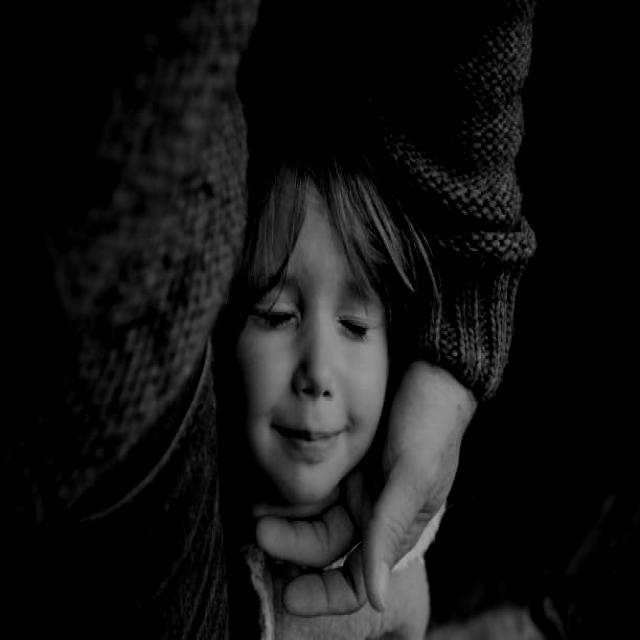real: (218, 137, 387, 510), (246, 263, 386, 351)
